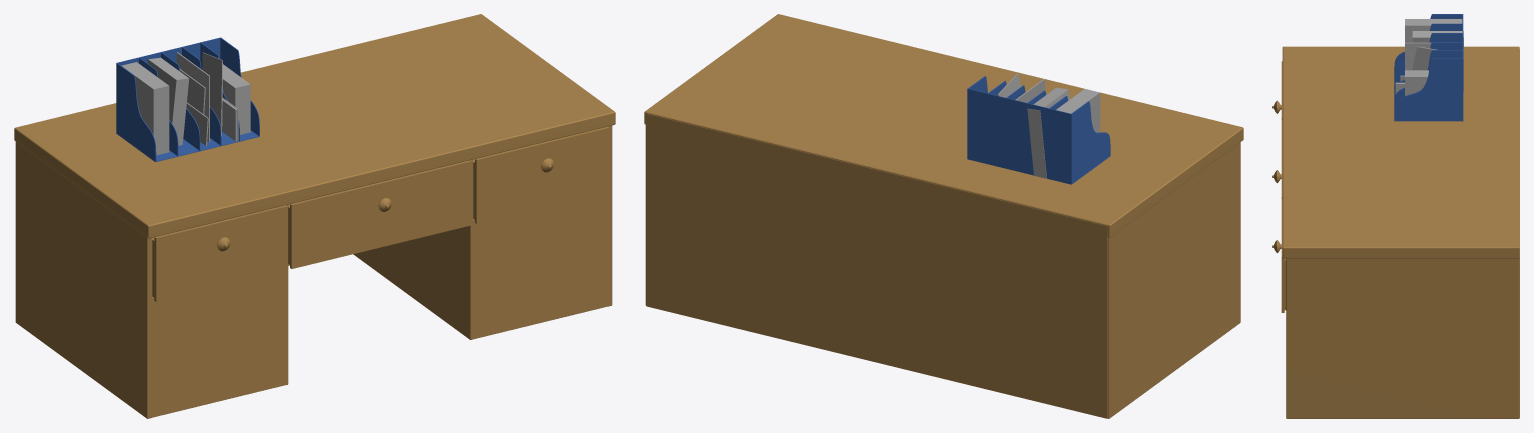
File: xie_zi_tai.fbx
The picture shows the model from 3 angles, left to right: view 1: azimuth 30°, elevation 25°; view 2: azimuth 150°, elevation 25°; view 3: azimuth 270°, elevation 25°; orthographic projection. The views are drawn at different scales.
Parts seen in each view (by area): view 1: pCube24, pCube9, pCube25, pCube26, pCube29, pCube28, pCube27; view 2: pCube24, pCube9, pCube26, pCube25; view 3: pCube24, pCube9, pCube25, pCube29, pCube27, pCube28, pCube26.
Boxes of the visible parts, bbox=[...] form: pCube24: bbox=[14, 14, 615, 418]; pCube9: bbox=[116, 37, 259, 162]; pCube25: bbox=[121, 62, 169, 155]; pCube26: bbox=[148, 57, 189, 145]; pCube29: bbox=[222, 64, 250, 134]; pCube28: bbox=[202, 52, 222, 136]; pCube27: bbox=[176, 52, 209, 142]; pCube24: bbox=[644, 14, 1243, 418]; pCube9: bbox=[967, 76, 1110, 184]; pCube26: bbox=[1027, 87, 1069, 178]; pCube25: bbox=[1056, 89, 1100, 132]; pCube24: bbox=[1281, 46, 1519, 418]; pCube9: bbox=[1394, 14, 1463, 121]; pCube25: bbox=[1405, 19, 1462, 42]; pCube29: bbox=[1405, 70, 1428, 95]; pCube27: bbox=[1405, 42, 1431, 70]; pCube28: bbox=[1412, 46, 1437, 70]; pCube26: bbox=[1412, 31, 1463, 92].
Size of what is drawn, in the model's own units: 11.49 by 6.3 by 5.98.
